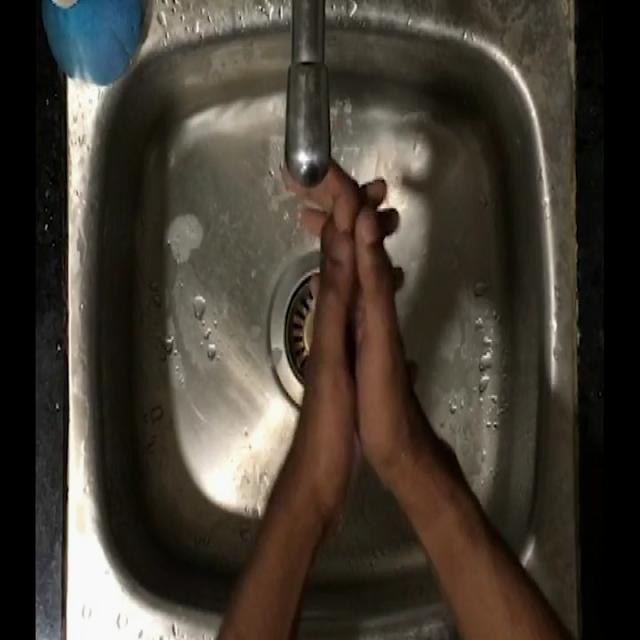step_3: (277, 142, 419, 442)
